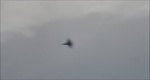maybay_muctieu: (61, 39, 76, 50)
